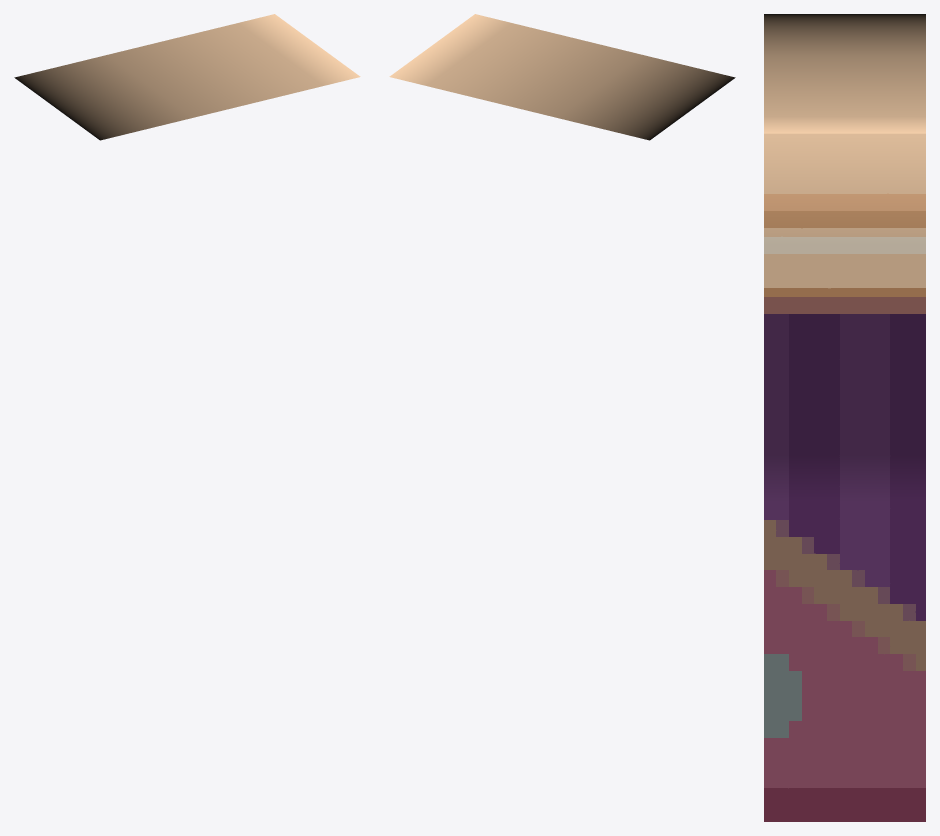
3 renders of one model, left to right at view 1: azimuth 30°, elevation 25°; view 2: azimuth 150°, elevation 25°; view 3: azimuth 270°, elevation 25°, orthographic. The views are drawn at different scales.
Bounding box in the file's own units: 1.75 × 4.75 × 1.
3 materials, 3 textured.
